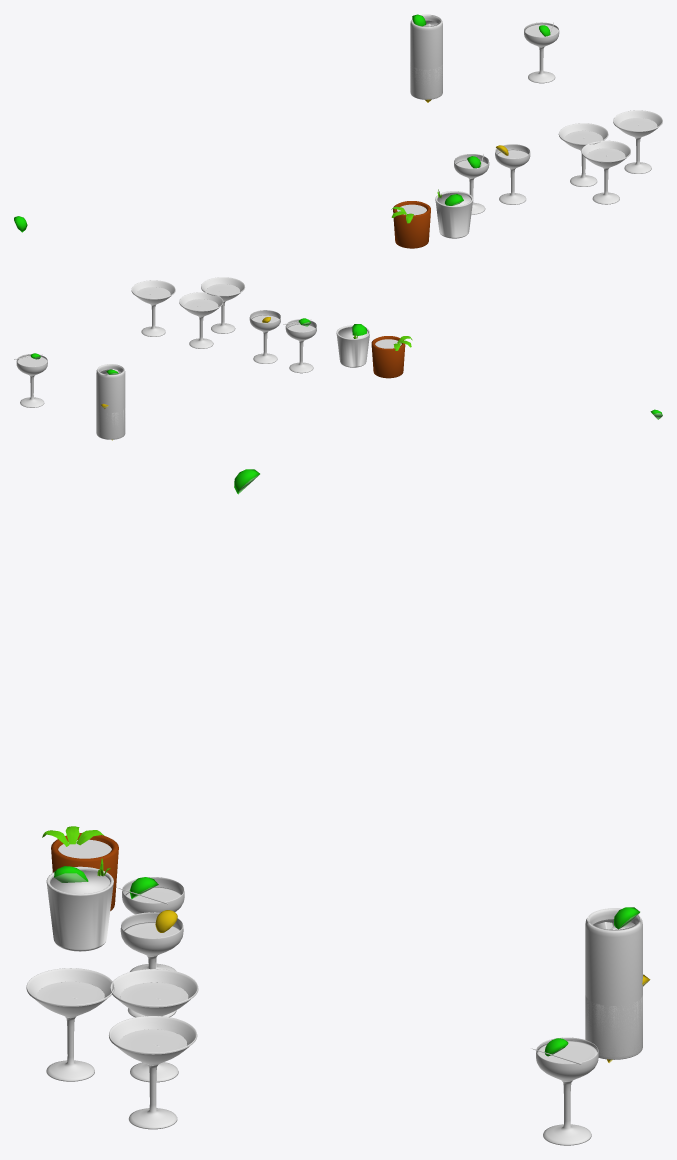
The model's file is Finished Drinks.fbx.
The picture shows the model from 3 angles, top to bottom: view 1: azimuth 30°, elevation 25°; view 2: azimuth 150°, elevation 25°; view 3: azimuth 270°, elevation 25°; orthographic projection. The views are drawn at different scales.
Parts seen in each view (by area): view 1: Cuba, Cylinder, Whiskey Sour, GMartini, Vodka Martini, Screwdriver, Gimlet, Cylinder.007, Cylinder.006, Cylinder.001; view 2: Cuba, Cylinder, Whiskey Sour, Vodka Martini, Screwdriver, GMartini, Gimlet, Cylinder.007, Cylinder.006; view 3: Cuba, Whiskey Sour, Vodka Martini, GMartini, Screwdriver, Gimlet, Cylinder, Cylinder.007, Cylinder.001, Cylinder.006.
Boxes of the visible parts, box(x1,y1,x2,y2) form: Cuba: box(410, 14, 442, 98); Cylinder: box(391, 201, 430, 248); Whiskey Sour: box(435, 189, 473, 238); GMartini: box(581, 140, 630, 204); Vodka Martini: box(613, 110, 662, 173); Screwdriver: box(558, 123, 608, 186); Gimlet: box(524, 22, 559, 83); Cylinder.007: box(495, 144, 530, 204); Cylinder.006: box(454, 154, 489, 214); Cylinder.001: box(410, 63, 442, 99); Cuba: box(96, 364, 125, 438); Cylinder: box(371, 336, 412, 378); Whiskey Sour: box(336, 324, 369, 367); Vodka Martini: box(131, 280, 175, 336); Screwdriver: box(179, 292, 223, 348); GMartini: box(201, 277, 244, 333); Gimlet: box(14, 353, 47, 407); Cylinder.007: box(249, 310, 280, 363); Cylinder.006: box(285, 319, 316, 373); Cuba: box(585, 908, 642, 1057); Whiskey Sour: box(46, 858, 113, 951); Vodka Martini: box(109, 1016, 197, 1129); GMartini: box(26, 968, 114, 1081); Screwdriver: box(110, 969, 198, 1082); Gimlet: box(531, 1037, 598, 1145); Cylinder: box(42, 826, 118, 910); Cylinder.007: box(120, 910, 183, 1017); Cylinder.001: box(585, 974, 650, 1059); Cylinder.006: box(122, 877, 184, 971).
Size of the model in its own units: 193 by 24.64 by 92.77.
